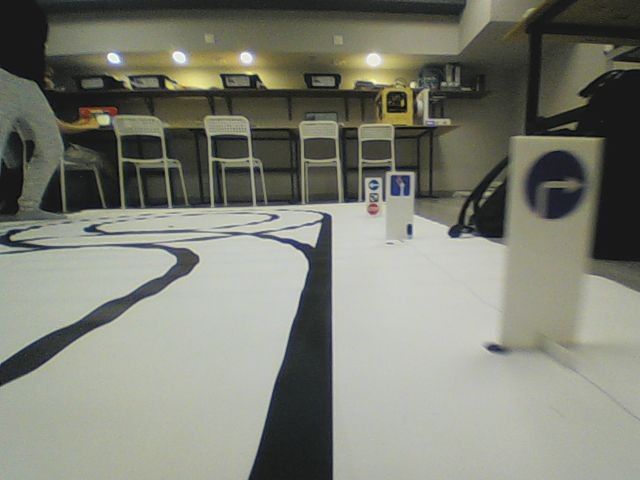Right: (522, 148, 586, 222)
priority_movement: (388, 174, 411, 198)
